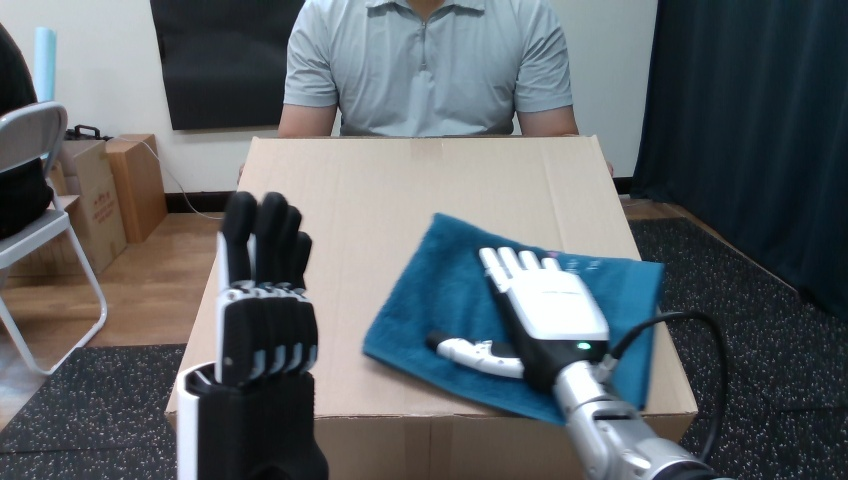left robot hand: (426, 247, 727, 479), (177, 192, 327, 478), (609, 317, 721, 458)
